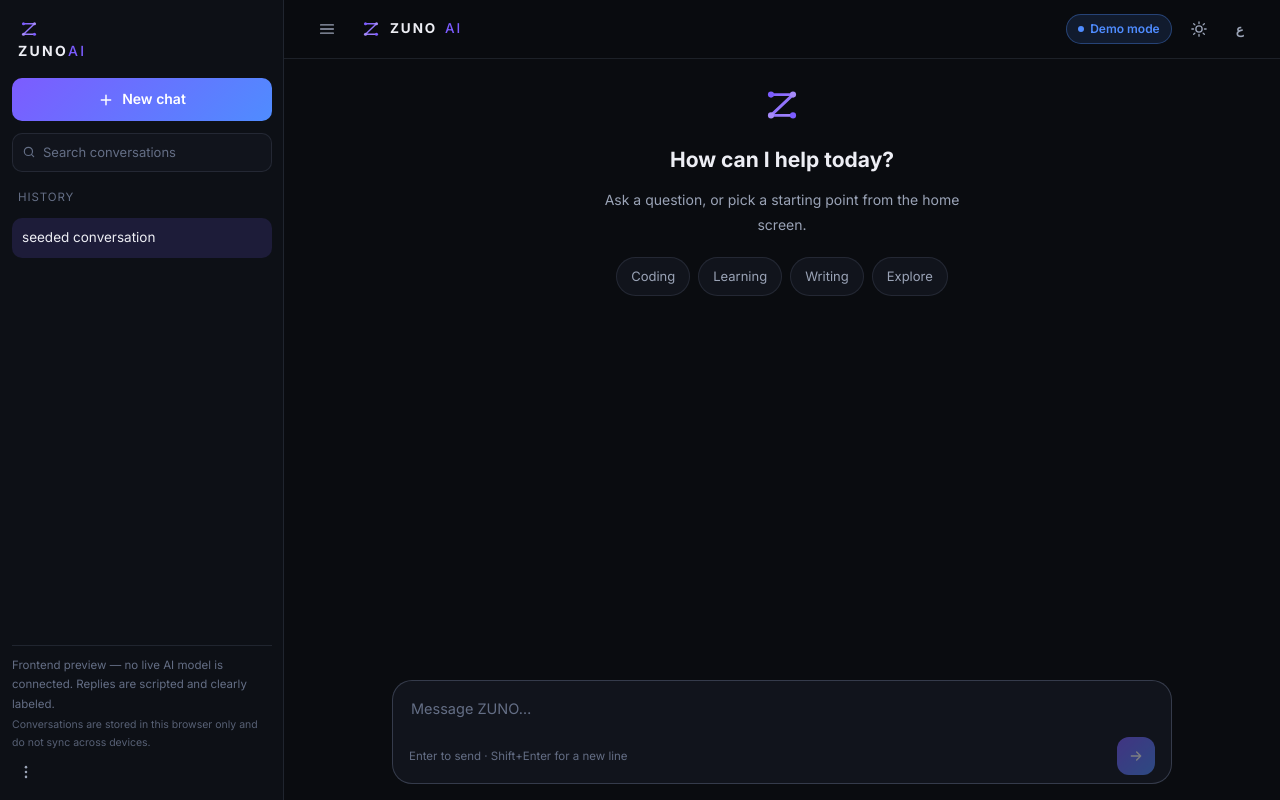
Test case: Chat smart-title wiring › on failure keeps the local heuristic title — silently, no error UI
Type "Explain async await" into the text box labelled "Message ZUNO…" at point(782, 713), box [403,691,1161,735]
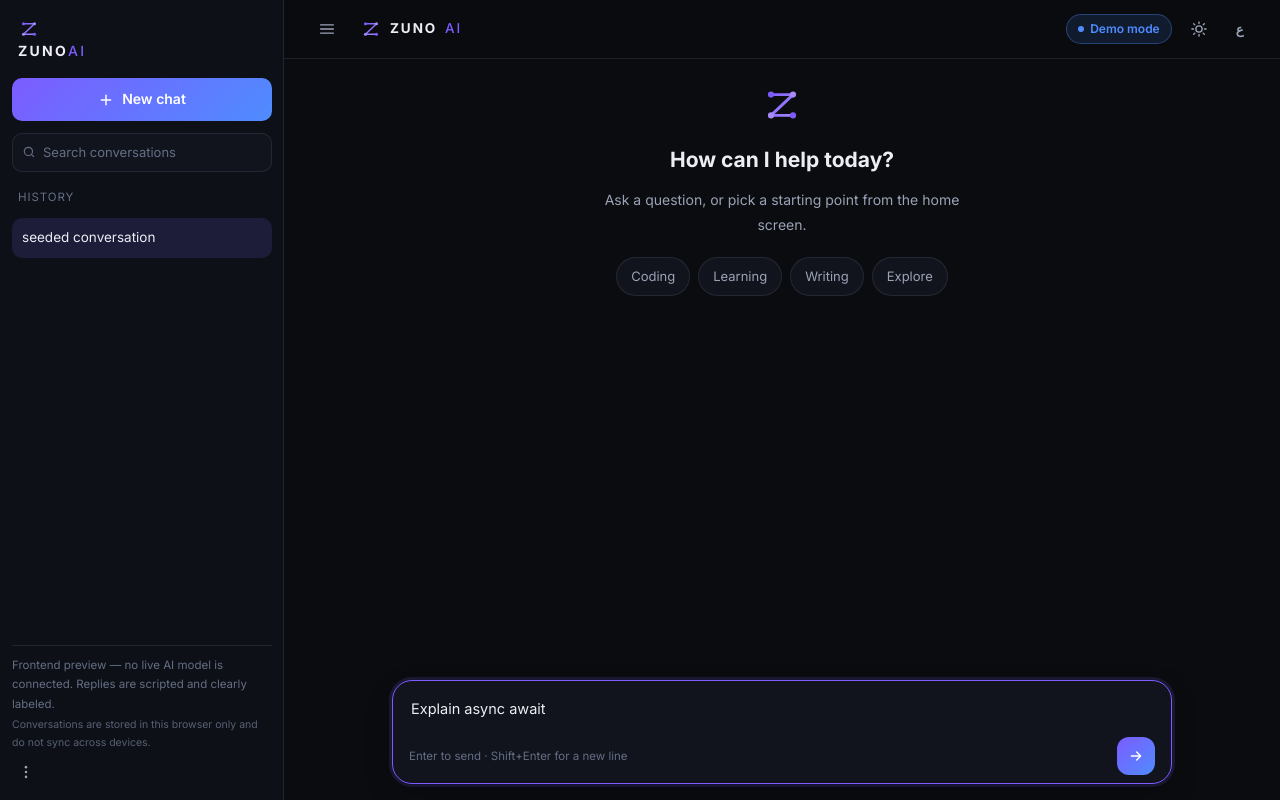
Click the button named "Send" at point(1136, 756), box [1117,737,1155,775]
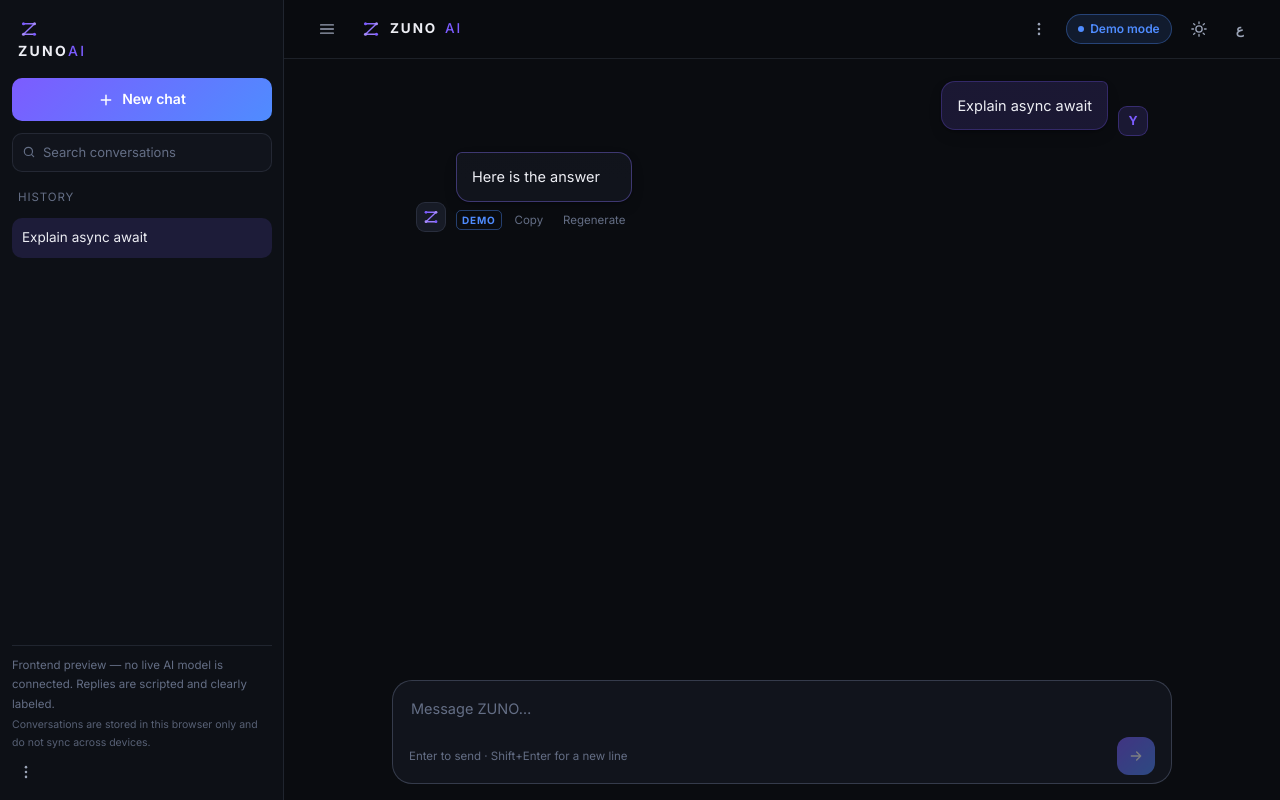
Expected: the text "Here is the answer" is shown, [472,164,616,190]
Expected: the button "Explain async await" is shown, [12,218,240,258]
